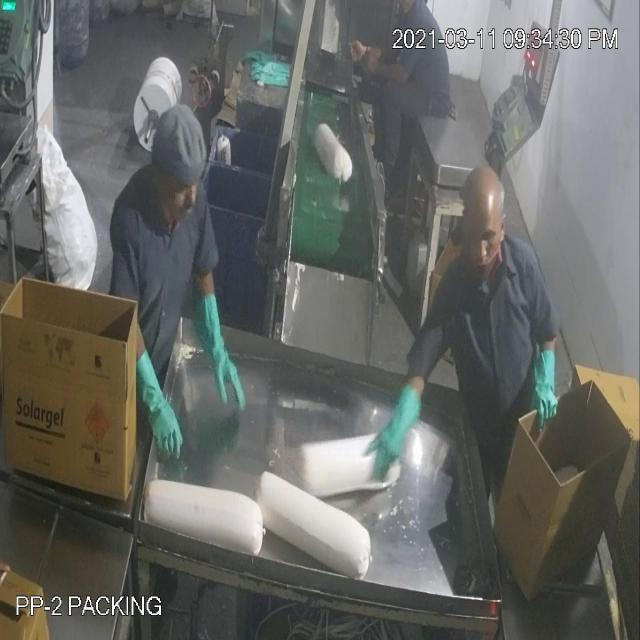Gloves: (40, 49, 540, 432)
